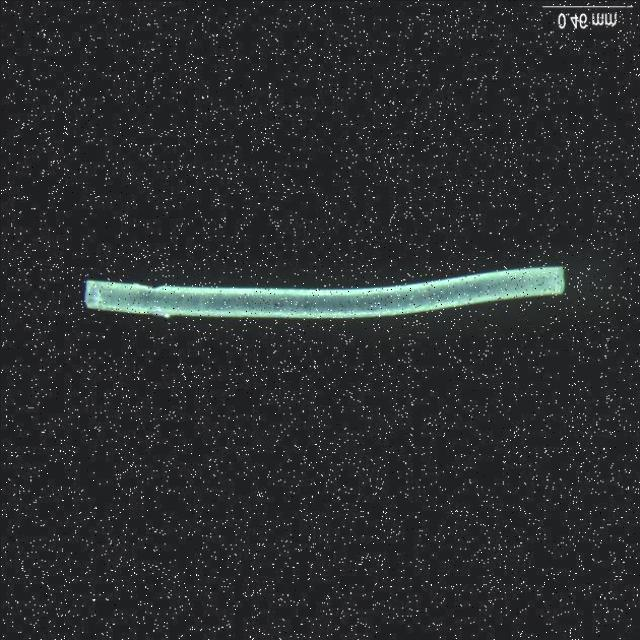Fibre: (79, 254, 569, 312)
